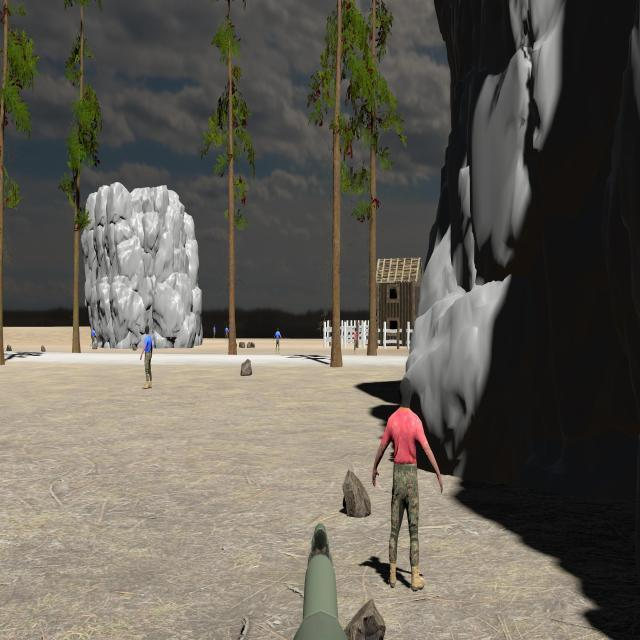Human: (371, 376, 444, 593), (140, 324, 153, 390)
